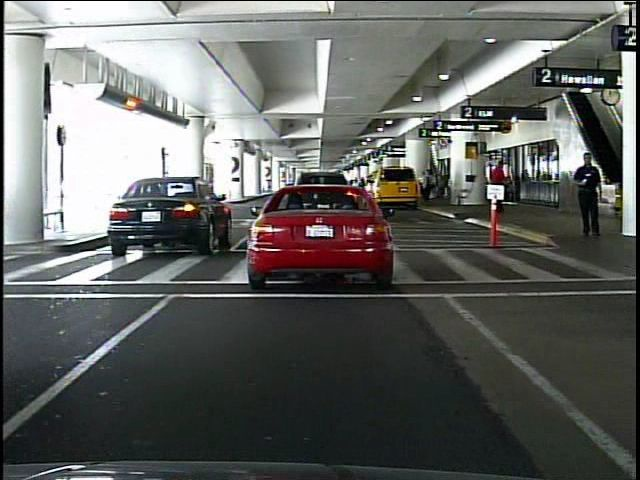person: (574, 151, 604, 240), (486, 159, 509, 215), (418, 165, 431, 202)
